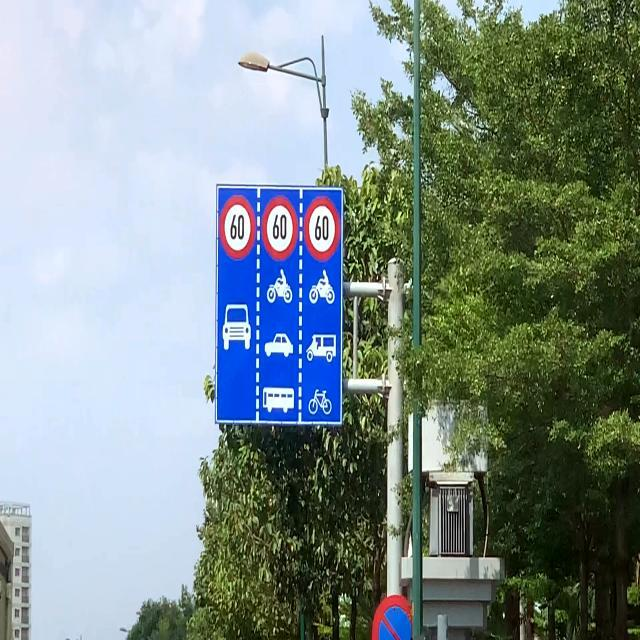Cam do xe: (364, 590, 424, 640)
Toc do toi da cho phep: (300, 188, 346, 272), (218, 192, 262, 262), (258, 188, 300, 258)
